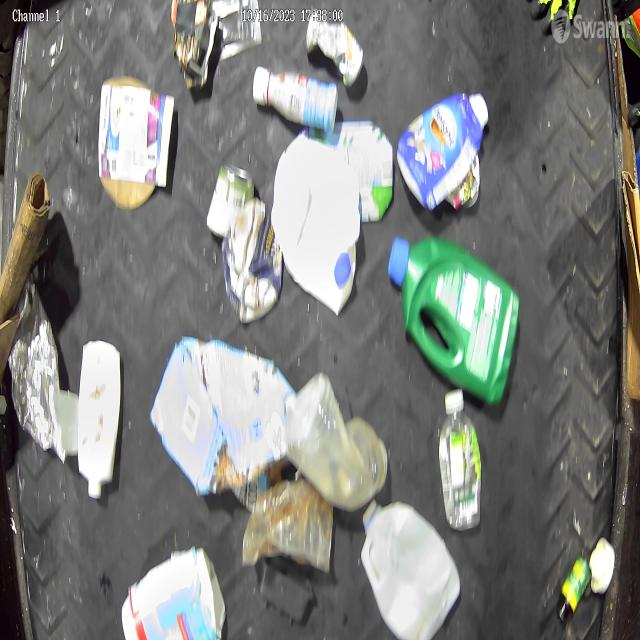can: (206, 159, 252, 239)
milk_jug: (274, 115, 356, 307), (361, 489, 459, 637)
non_white_jug: (391, 228, 519, 414), (398, 92, 490, 200)
plastic_bottle: (434, 381, 487, 531), (211, 2, 268, 60)
